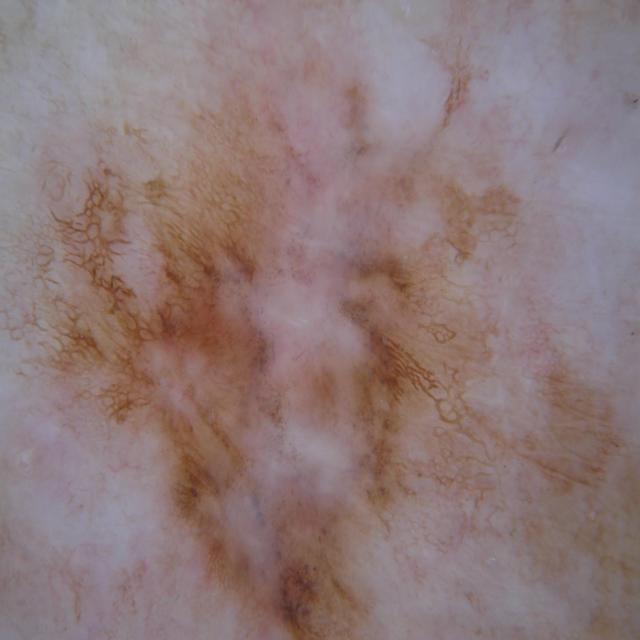Skin-Cancer Melanoma: (2, 3, 640, 627)
